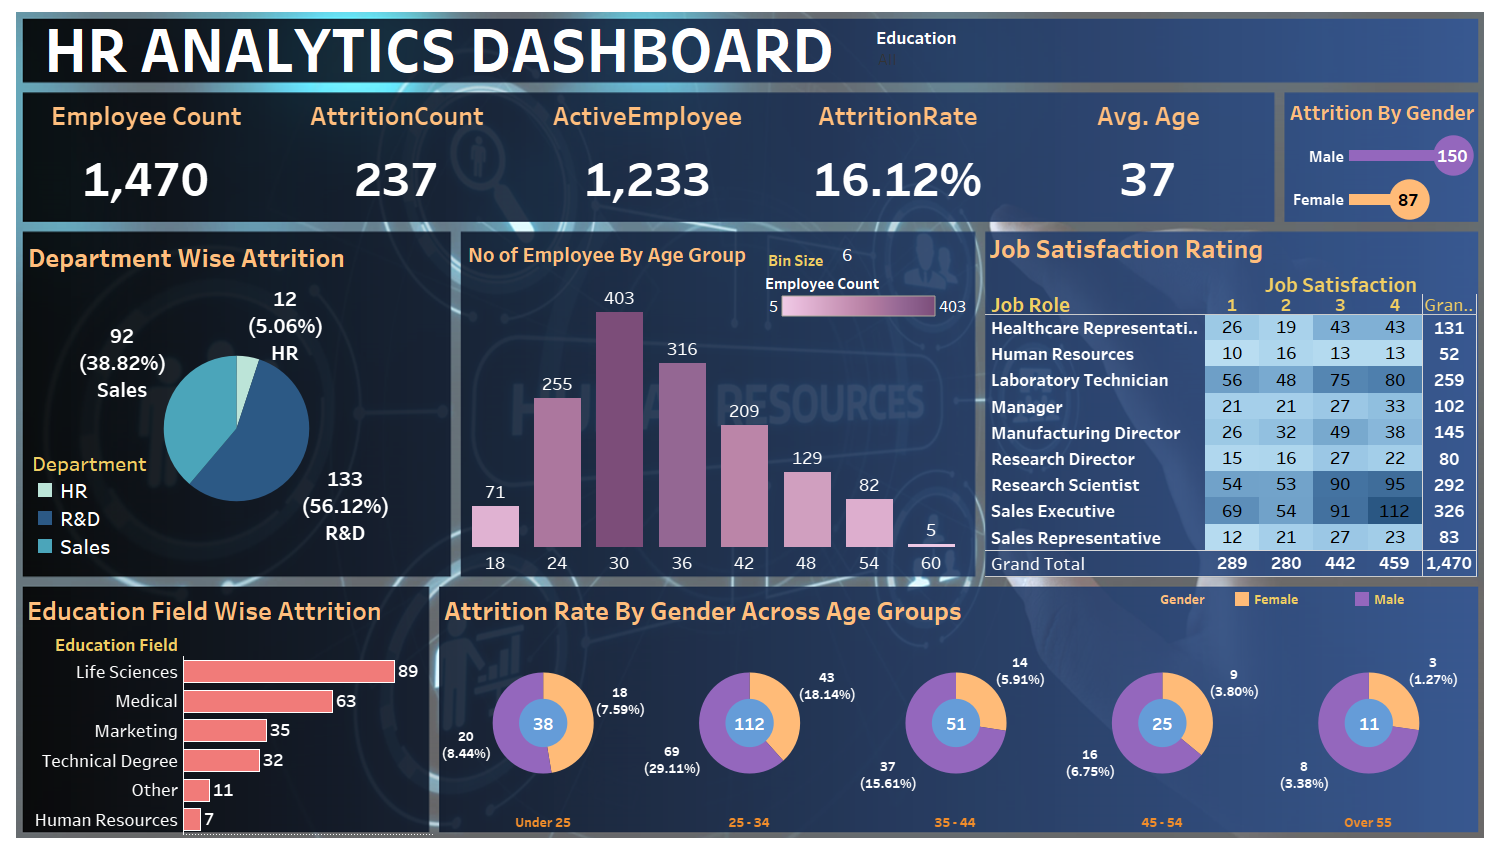

The page's visual inventory and layout, read from the dashboard file:
{"tool":"tableau","page":{"name":"HR ANALYTICS DASHBOARD","canvas":[1500,850],"ordinal":0},"visuals":[{"type":"image","param":"C:/Users/Mohan Sharma/OneDrive/Desktop/HR background.png","box":[8,8,1484,834]},{"type":"text","box":[28,19,857,56]},{"type":"filter","title":"Education Field Wise Attrition","param":"[federated.1rl2pq40yfz79t1ccl24k1azl5um].[none:Education:nk]","box":[876,25,129,45]},{"type":"text","box":[1288,40,185,30]},{"type":"worksheet","title":"HR-Analytics KPI","mark":"Automatic","box":[21,92,1253,131]},{"type":"worksheet","title":"Attrition By Gender","mark":"Automatic","rows":["Gender"],"cols":["Calculation_1045116648185548800","Calculation_1045116648185548800"],"box":[1285,92,194,129]},{"type":"worksheet","title":"Job Satisfaction Rating Wise","mark":"Automatic","rows":["Job Role"],"cols":["Job Satisfaction"],"box":[985,225,492,352]},{"type":"worksheet","title":"Department Wise Attrition","mark":"Pie","box":[24,234,425,340]},{"type":"worksheet","title":"No of Employee By Age Group","mark":"Automatic","rows":["Employee Count"],"cols":["Age (bin)"],"box":[464,234,500,341]},{"type":"parameter","param":"[Parameters].[Parameter 1]","box":[768,242,202,37]},{"type":"legend","title":"No of Employee By Age Group","param":"[federated.1rl2pq40yfz79t1ccl24k1azl5um].[sum:Employee Count:qk]","box":[765,269,206,50]},{"type":"legend","title":"Department Wise Attrition","param":"[federated.1rl2pq40yfz79t1ccl24k1azl5um].[none:Department:nk]","box":[31,447,135,124]},{"type":"worksheet","title":"Education Field Wise Attrition","mark":"Bar","rows":["Education Field"],"cols":["Calculation_1045116648185548800"],"box":[23,587,411,247]},{"type":"worksheet","title":"Attrition Rate By Gender Across Age Groups","mark":"Pie","rows":["Calculation_1045116648316329991","Calculation_1045116648316329991"],"cols":["CF_age band"],"box":[440,587,1032,245]},{"type":"legend","title":"Attrition Rate By Gender Across Age Groups","param":"[federated.1rl2pq40yfz79t1ccl24k1azl5um].[none:Gender:nk]","box":[1160,589,304,26]}]}

Visuals, with their boxes in screenshot pixels (x1, y1, x2, y2), scaled from the page's 1500x850 canvas onto the 1500x850 screenshot:
image: (8,8,1492,842)
text: (28,19,885,75)
"Education Field Wise Attrition" filter: (876,25,1005,70)
text: (1288,40,1473,70)
"HR-Analytics KPI" worksheet: (21,92,1274,223)
"Attrition By Gender" worksheet: (1285,92,1479,221)
"Job Satisfaction Rating Wise" worksheet: (985,225,1477,577)
"Department Wise Attrition" worksheet (Pie marks): (24,234,449,574)
"No of Employee By Age Group" worksheet: (464,234,964,575)
parameter: (768,242,970,279)
"No of Employee By Age Group" legend: (765,269,971,319)
"Department Wise Attrition" legend: (31,447,166,571)
"Education Field Wise Attrition" worksheet (Bar marks): (23,587,434,834)
"Attrition Rate By Gender Across Age Groups" worksheet (Pie marks): (440,587,1472,832)
"Attrition Rate By Gender Across Age Groups" legend: (1160,589,1464,615)
